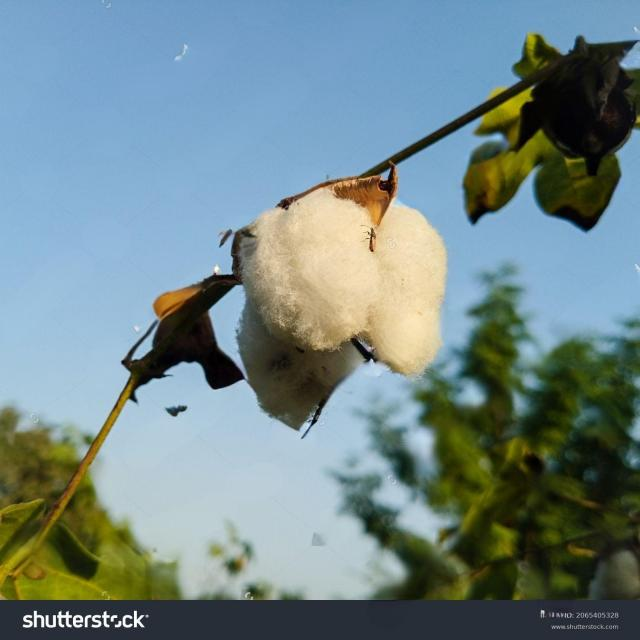Leaf: (227, 149, 463, 452)
